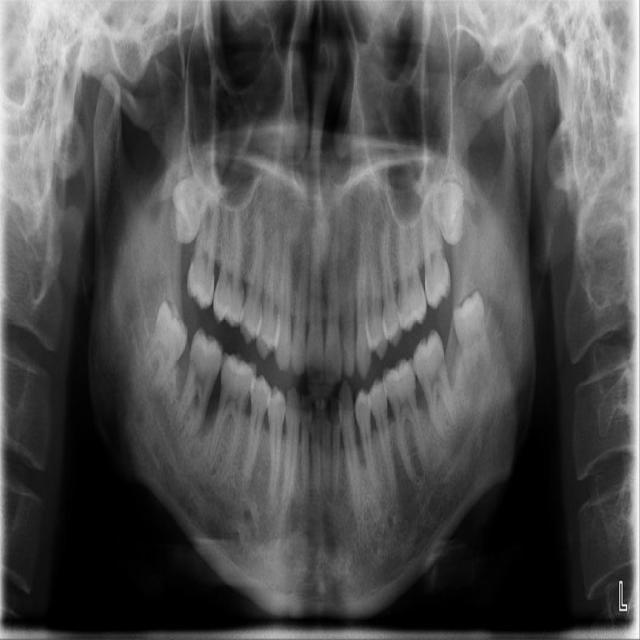3M ESPE Implant: (148, 134, 255, 249)
73: (568, 574, 576, 588)
BioHorizons Implant: (418, 153, 452, 311)
BioLife Implant: (403, 151, 487, 249)
Biomet 3i Implant: (449, 286, 497, 389)
Blue Sky Bio Implant: (405, 327, 463, 446)
Caries: (184, 164, 225, 310)
Implant: (170, 325, 230, 446)
Keystone Dental Implant: (130, 298, 198, 407)
